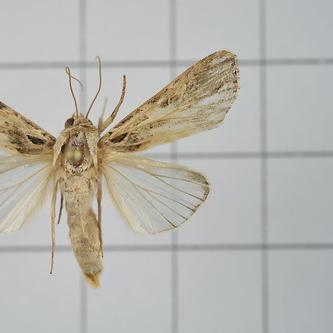Spodoptera litura: (1, 50, 240, 288)
